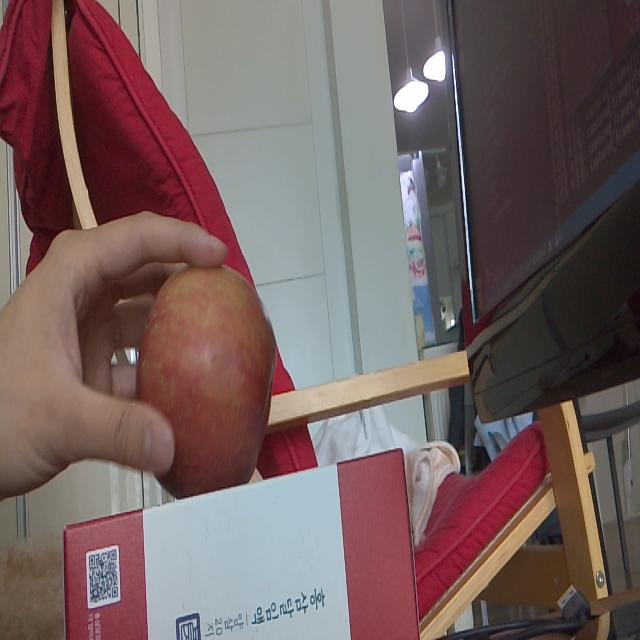apple: (138, 258, 277, 488)
